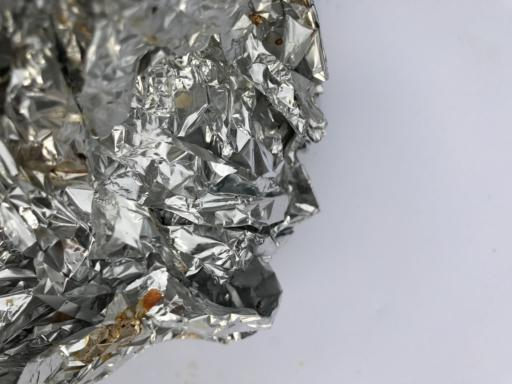metal: (0, 5, 330, 384)
